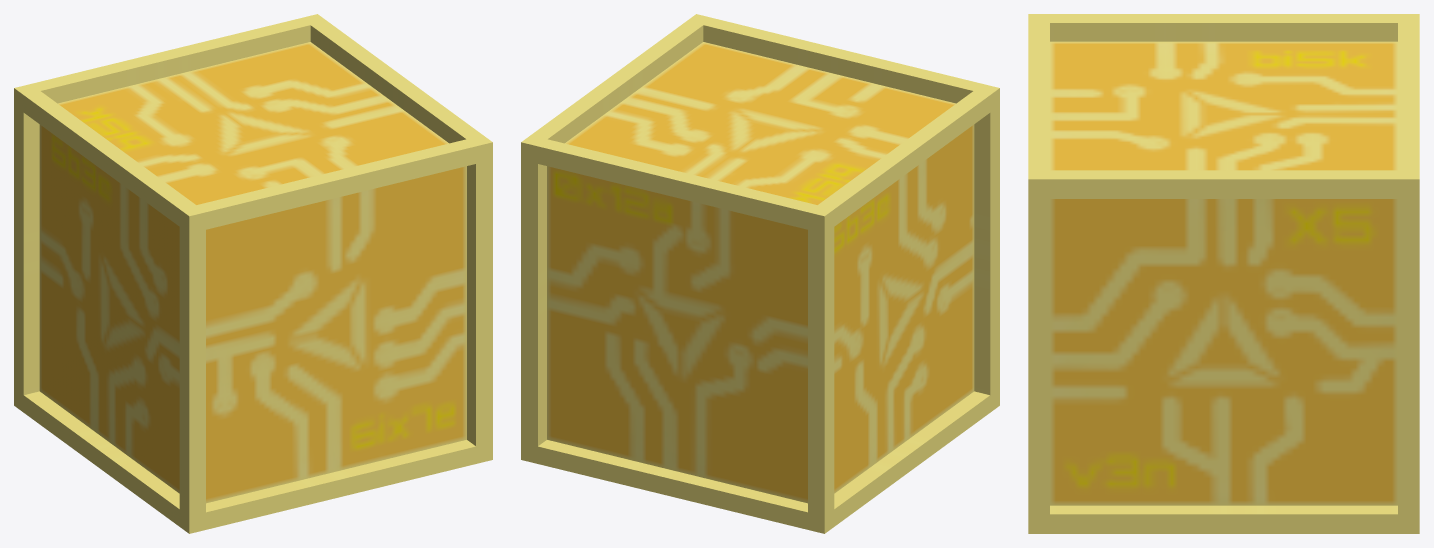
File: Data_Cube.glb
3 views of the same model, side by side, from view 1: azimuth 30°, elevation 25°; view 2: azimuth 150°, elevation 25°; view 3: azimuth 270°, elevation 25° (orthographic). The views are drawn at different scales.
Visible parts, largest first — view 1: Data_Cube; view 2: Data_Cube; view 3: Data_Cube.
Boxes of the visible parts, box(x1,y1,x2,y2) form: Data_Cube: box(14, 14, 492, 533); Data_Cube: box(521, 14, 999, 533); Data_Cube: box(1028, 14, 1419, 533).
Size of the model in its own units: 1.26 by 1.26 by 1.26.
1 material, 1 textured.
